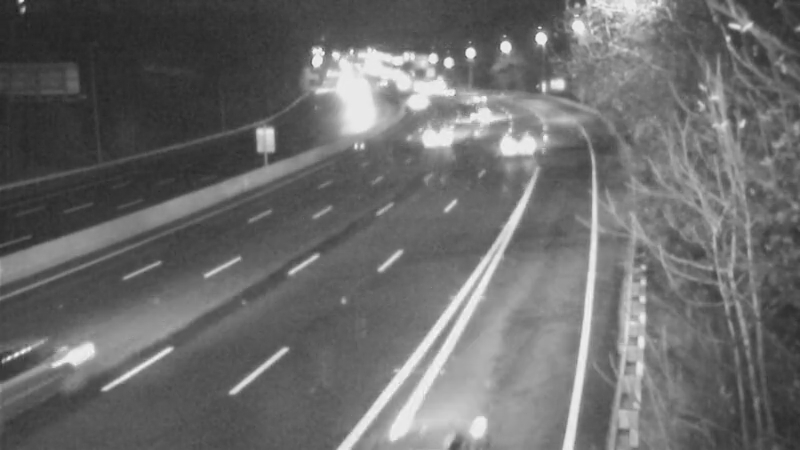vehicle: (1, 323, 101, 433), (393, 77, 443, 127), (452, 75, 502, 125), (443, 89, 493, 139), (408, 109, 458, 159), (490, 113, 540, 163), (330, 92, 380, 142)
